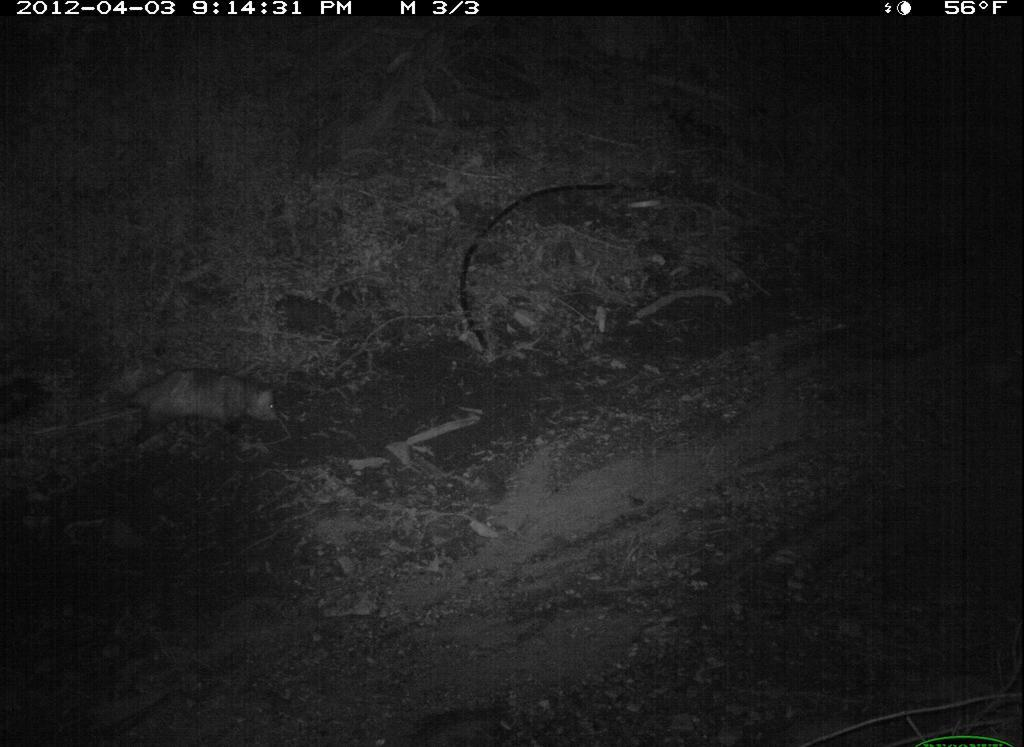opossum: (52, 358, 294, 456)
